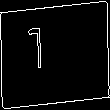L_S: (47, 29, 63, 81)
